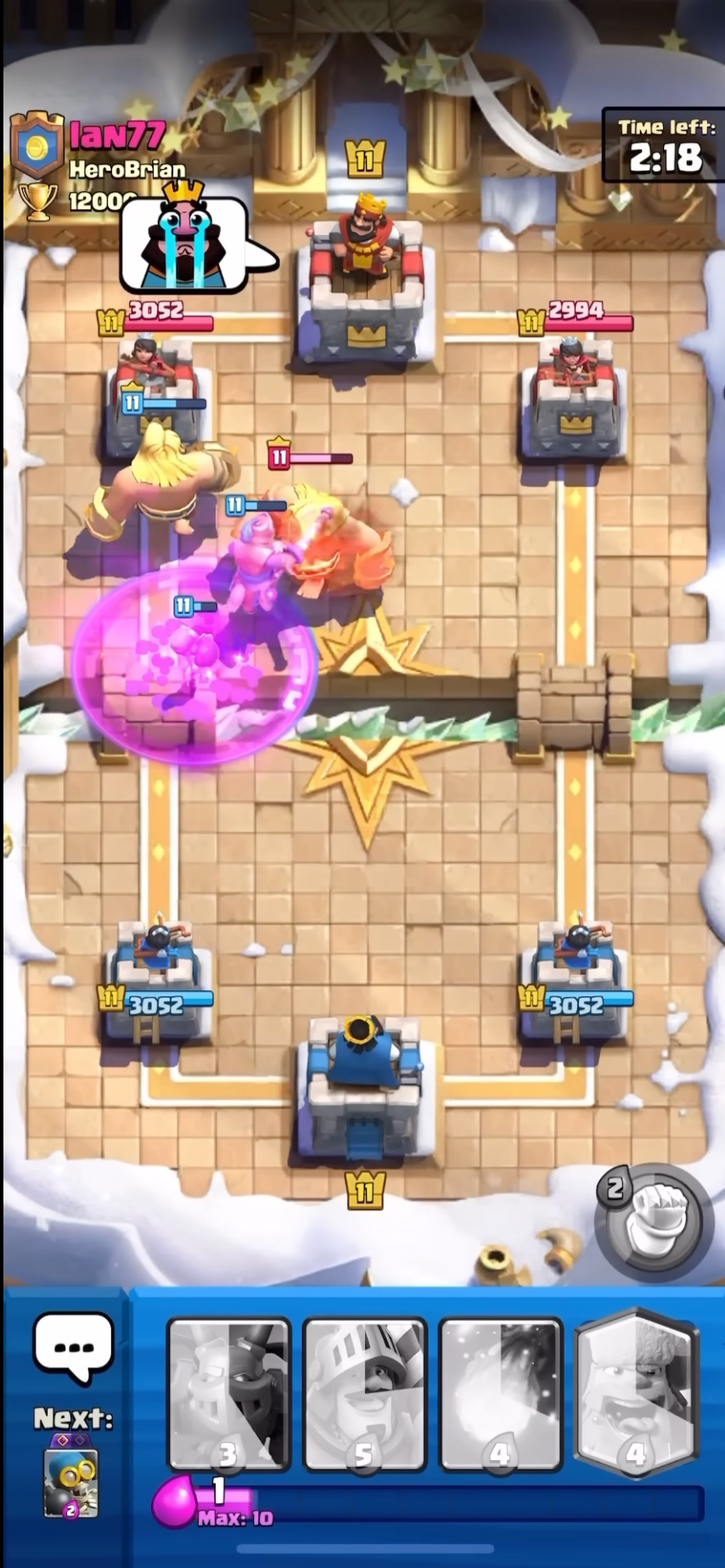hero-giant: (246, 429, 400, 606)
